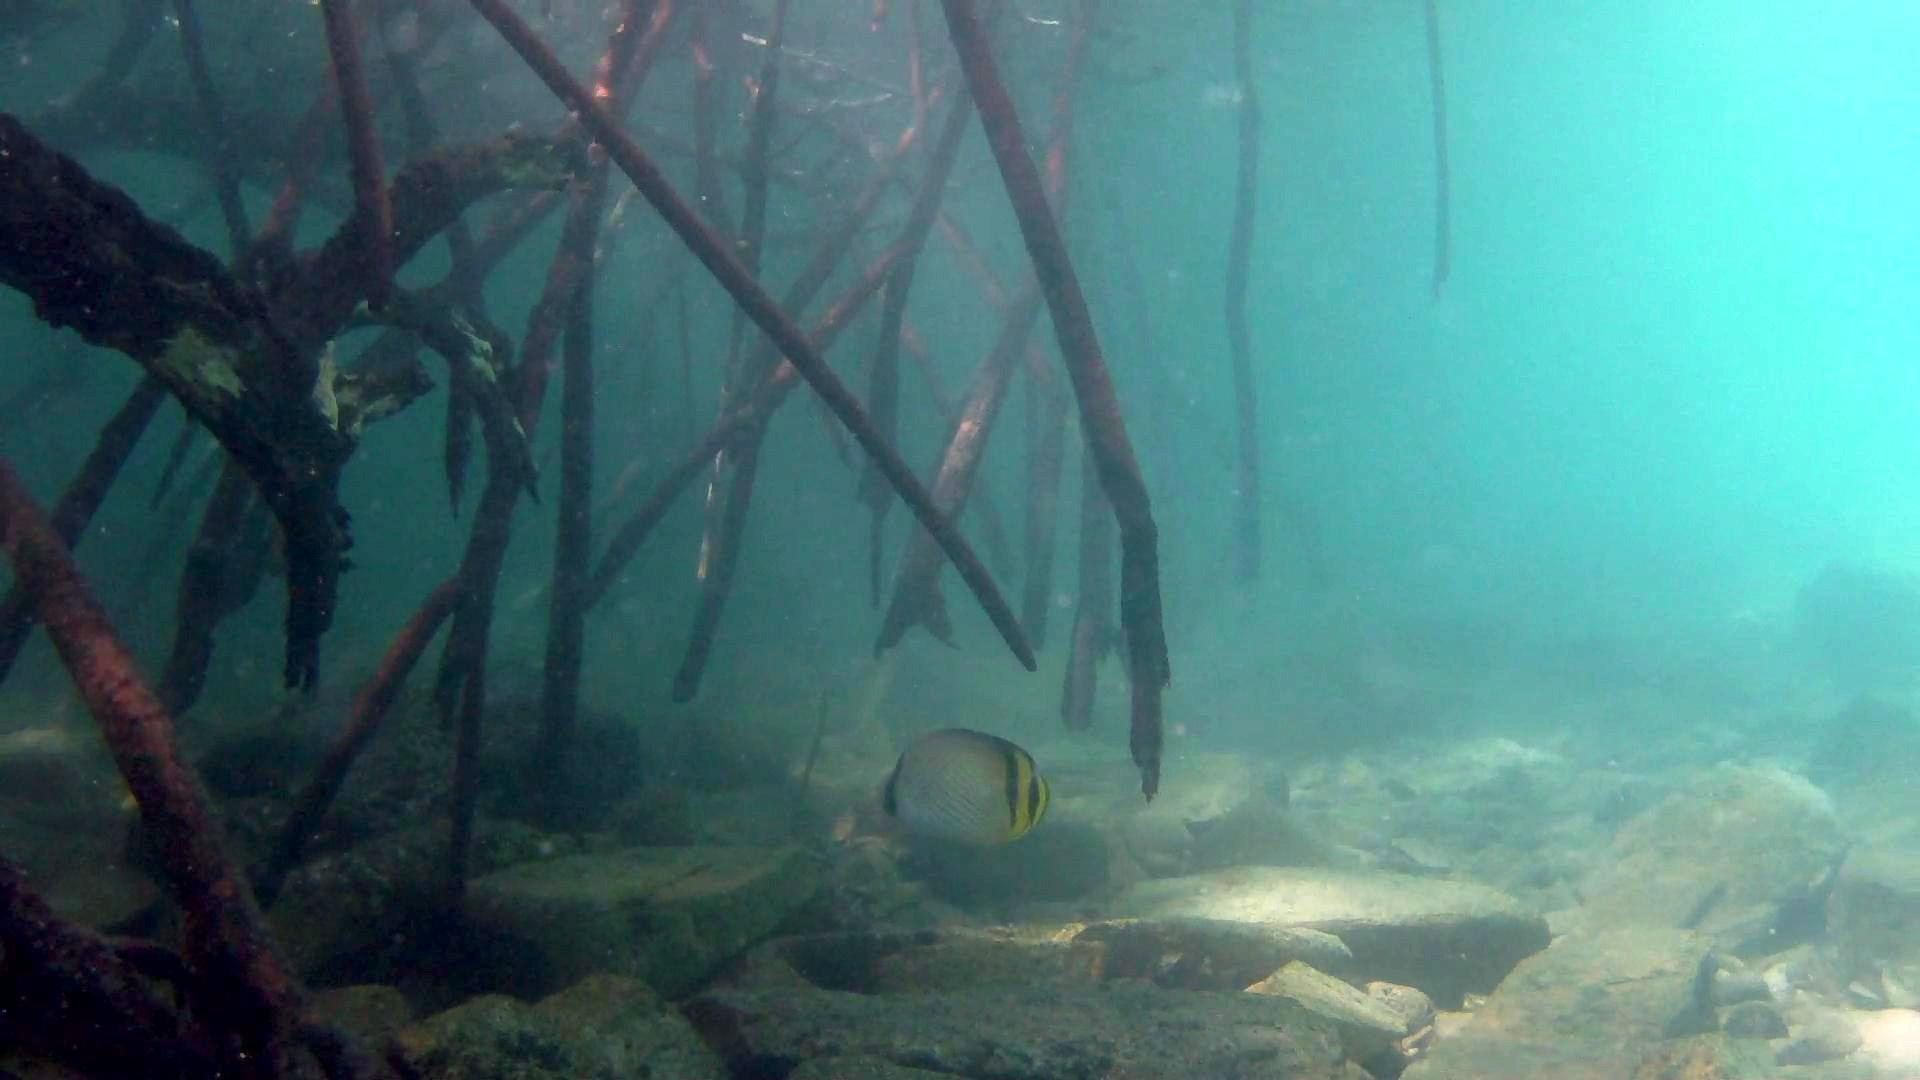chaetodon vagabundus: (862, 721, 1056, 853)
